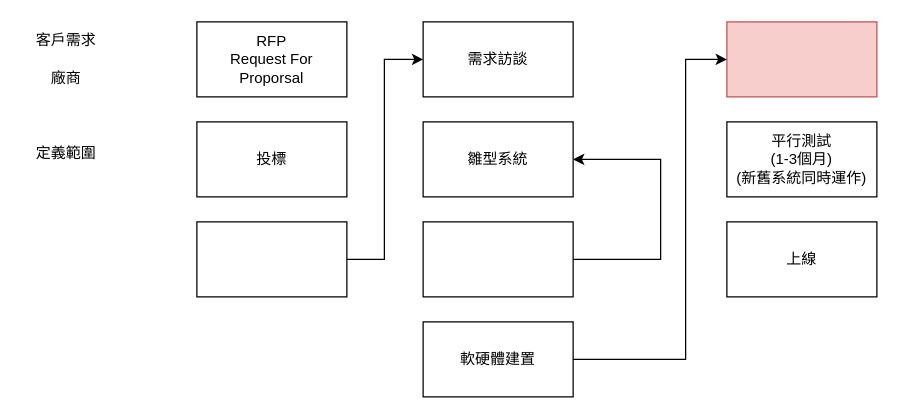
Image size: 899x419. Some labels were removed from this diagram. The centre of each missing label's shape, as x and y in pixels:
功能測試: the point at 497,259
得標: the point at 271,259
資料匯入: the point at 801,59
